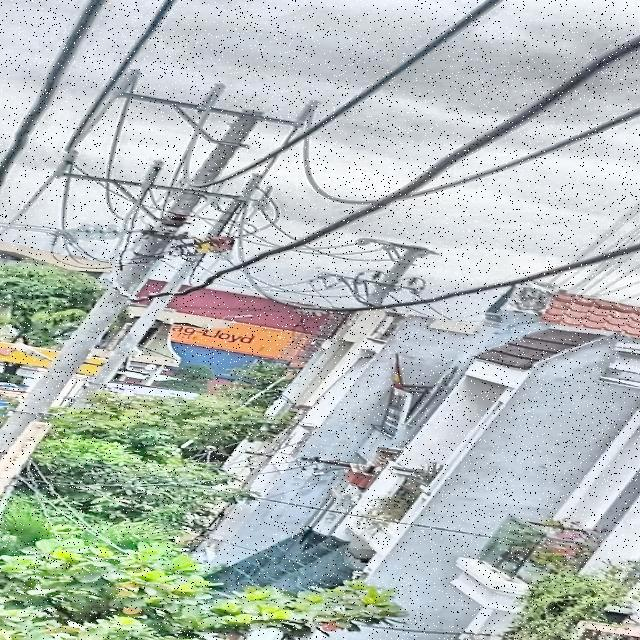crossarm: (58, 168, 243, 200), (119, 93, 305, 123)
pole: (0, 116, 258, 521)
wire: (102, 34, 640, 303), (179, 0, 509, 188), (236, 204, 640, 311), (301, 103, 640, 204), (64, 0, 178, 154), (107, 73, 136, 222)
